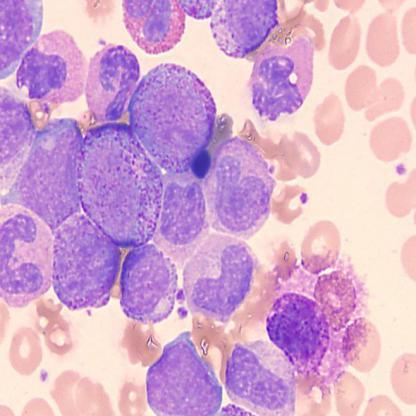Promyelocyte: (76, 124, 165, 250), (127, 63, 216, 176)
